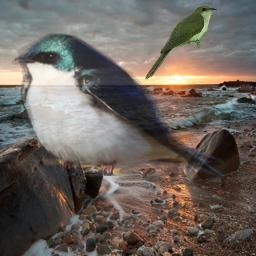Cuckoo: (145, 5, 218, 80)
Swallow: (12, 31, 224, 176)
